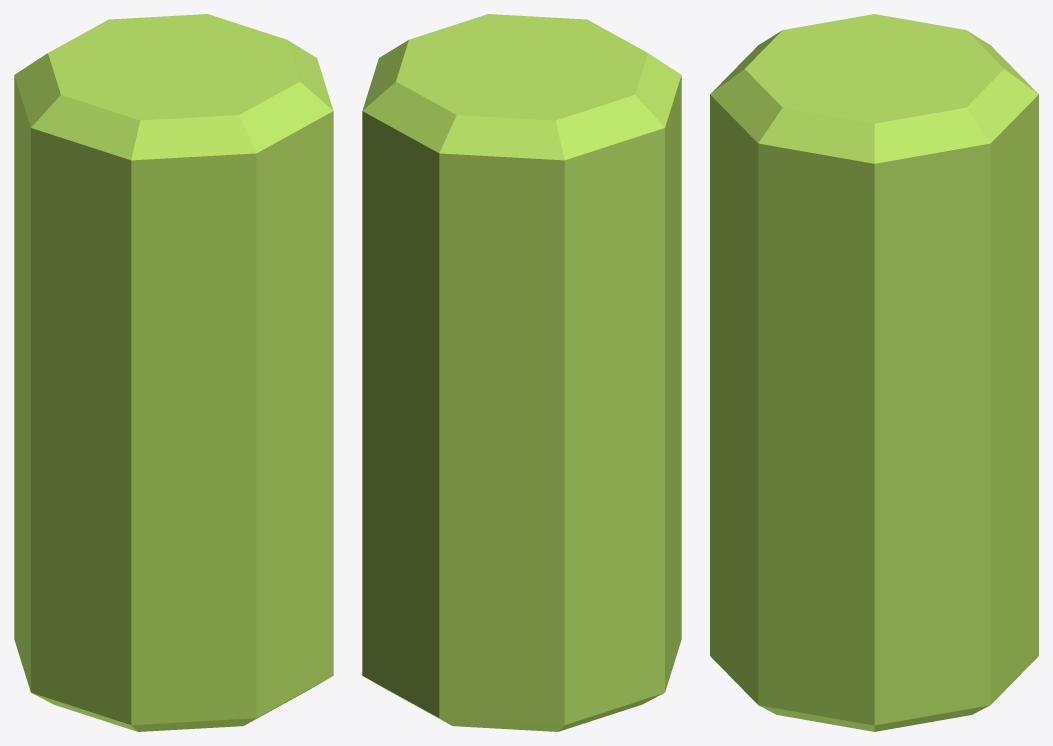
File: ing1 proto.fbx
The picture shows the model from 3 angles, left to right: view 1: azimuth 30°, elevation 25°; view 2: azimuth 150°, elevation 25°; view 3: azimuth 270°, elevation 25°; orthographic projection.
Visible parts, largest first — view 1: ingredient 1; view 2: ingredient 1; view 3: ingredient 1.
Part boxes in pixels (<box>): ingredient 1: <box>14,14,333,731</box>; ingredient 1: <box>362,14,681,731</box>; ingredient 1: <box>710,14,1038,731</box>.
Bounding box in the file's own units: 0.4929 × 0.4929 × 1.
